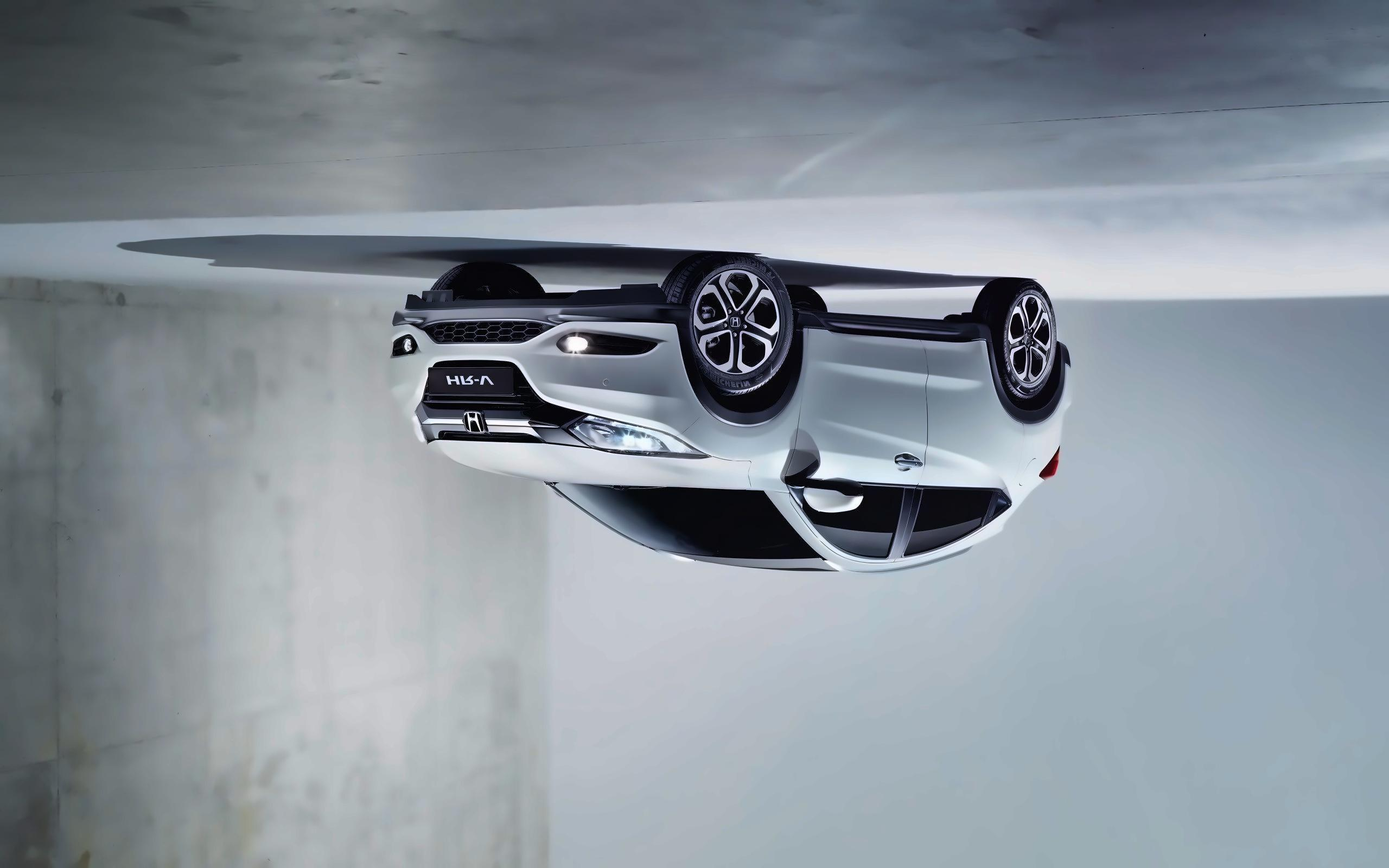Car hood: (430, 440, 759, 494)
Driver-s door - -F-R-: (777, 293, 934, 582)
Fender - -F-R-: (676, 303, 815, 498)
Fender - -R-R-: (976, 341, 1072, 512)
Front bumper: (385, 300, 702, 432)
Headlight - -R-: (567, 417, 709, 463)
Passenger-s door - -R-R-: (891, 297, 1022, 572)
Side bumper - -R-: (790, 299, 996, 378)
Side mirror - -R-: (792, 479, 874, 518)
